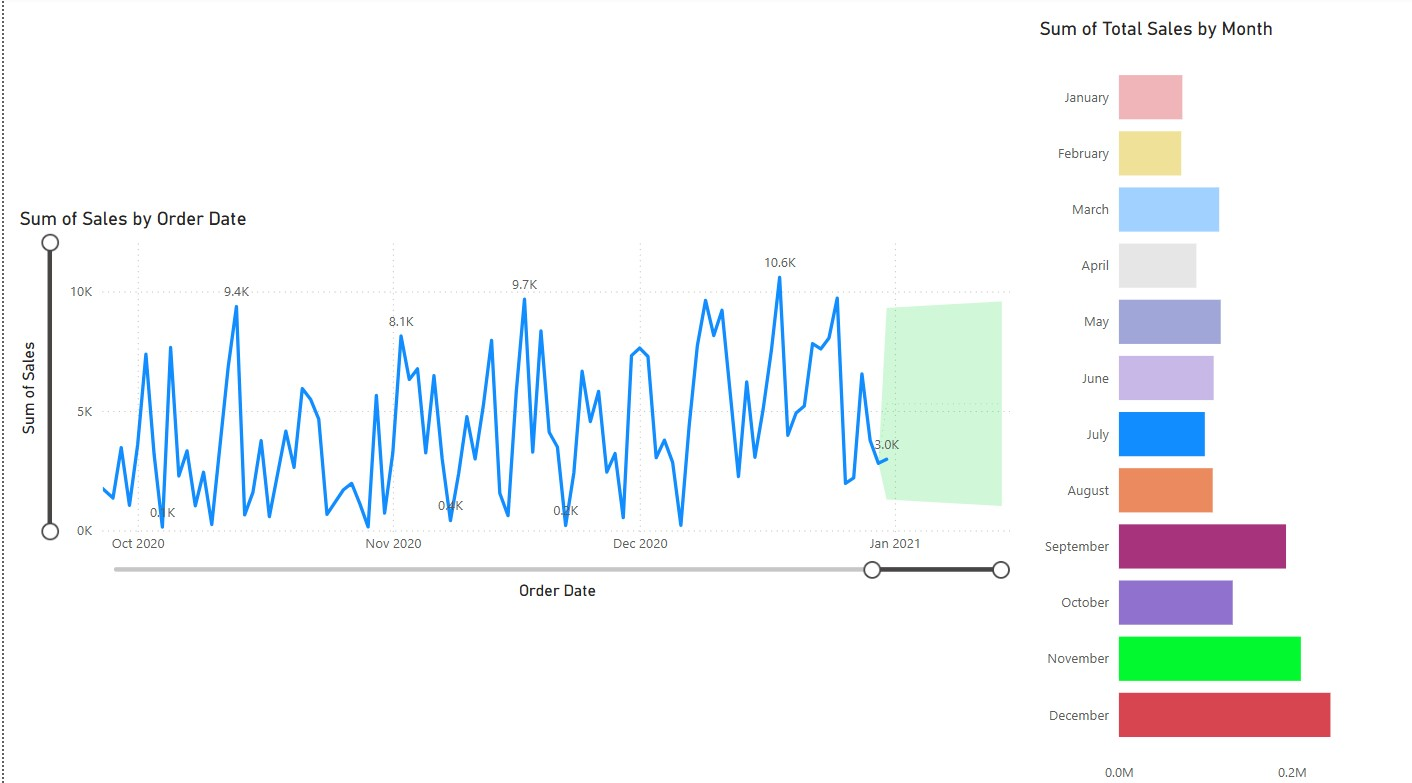

This screenshot's page, from the dashboard's own definition file:
{"tool":"powerbi","page":{"name":"Page 2","canvas":[1280,720],"ordinal":1},"visuals":[{"type":"lineChart","fields":{"Y":["Sum(Sheet1.Sales)"],"Category":["Sheet1.Order Date"]},"box":[9.6,190.7,922.1,359.5],"z":0},{"type":"barChart","fields":{"Y":["Sum(Salesforecast.Total Sales)"],"Category":["Salesforecast.Order Date.Variation.Date Hierarchy.Month"]},"box":[931.7,19.2,330.7,701.2],"z":1000}]}

Visuals, with their boxes in screenshot pixels (x1, y1, x2, y2), scaled from the page's 1280x720 canvas onto the 1412x783 screenshot:
lineChart - Sum(Sheet1.Sales) x Sheet1.Order Date: <box>11,207,1028,598</box>
barChart - Sum(Salesforecast.Total Sales) x Salesforecast.Order Date.Variation.Date Hierarchy.Month: <box>1028,21,1393,782</box>
